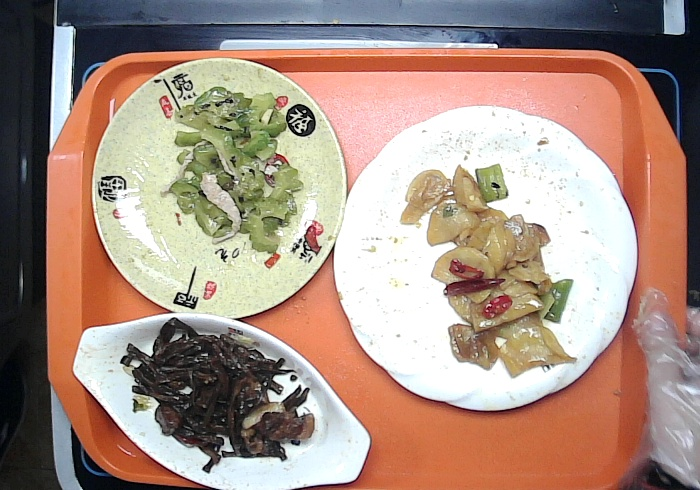NLDX-Bai_Zhe_Yuan_Pan: (338, 108, 637, 407)
NLDX-Fu_Zi_Yuan_Pan: (90, 56, 348, 316)
NLDX-Yu_Pan: (75, 317, 394, 490)
